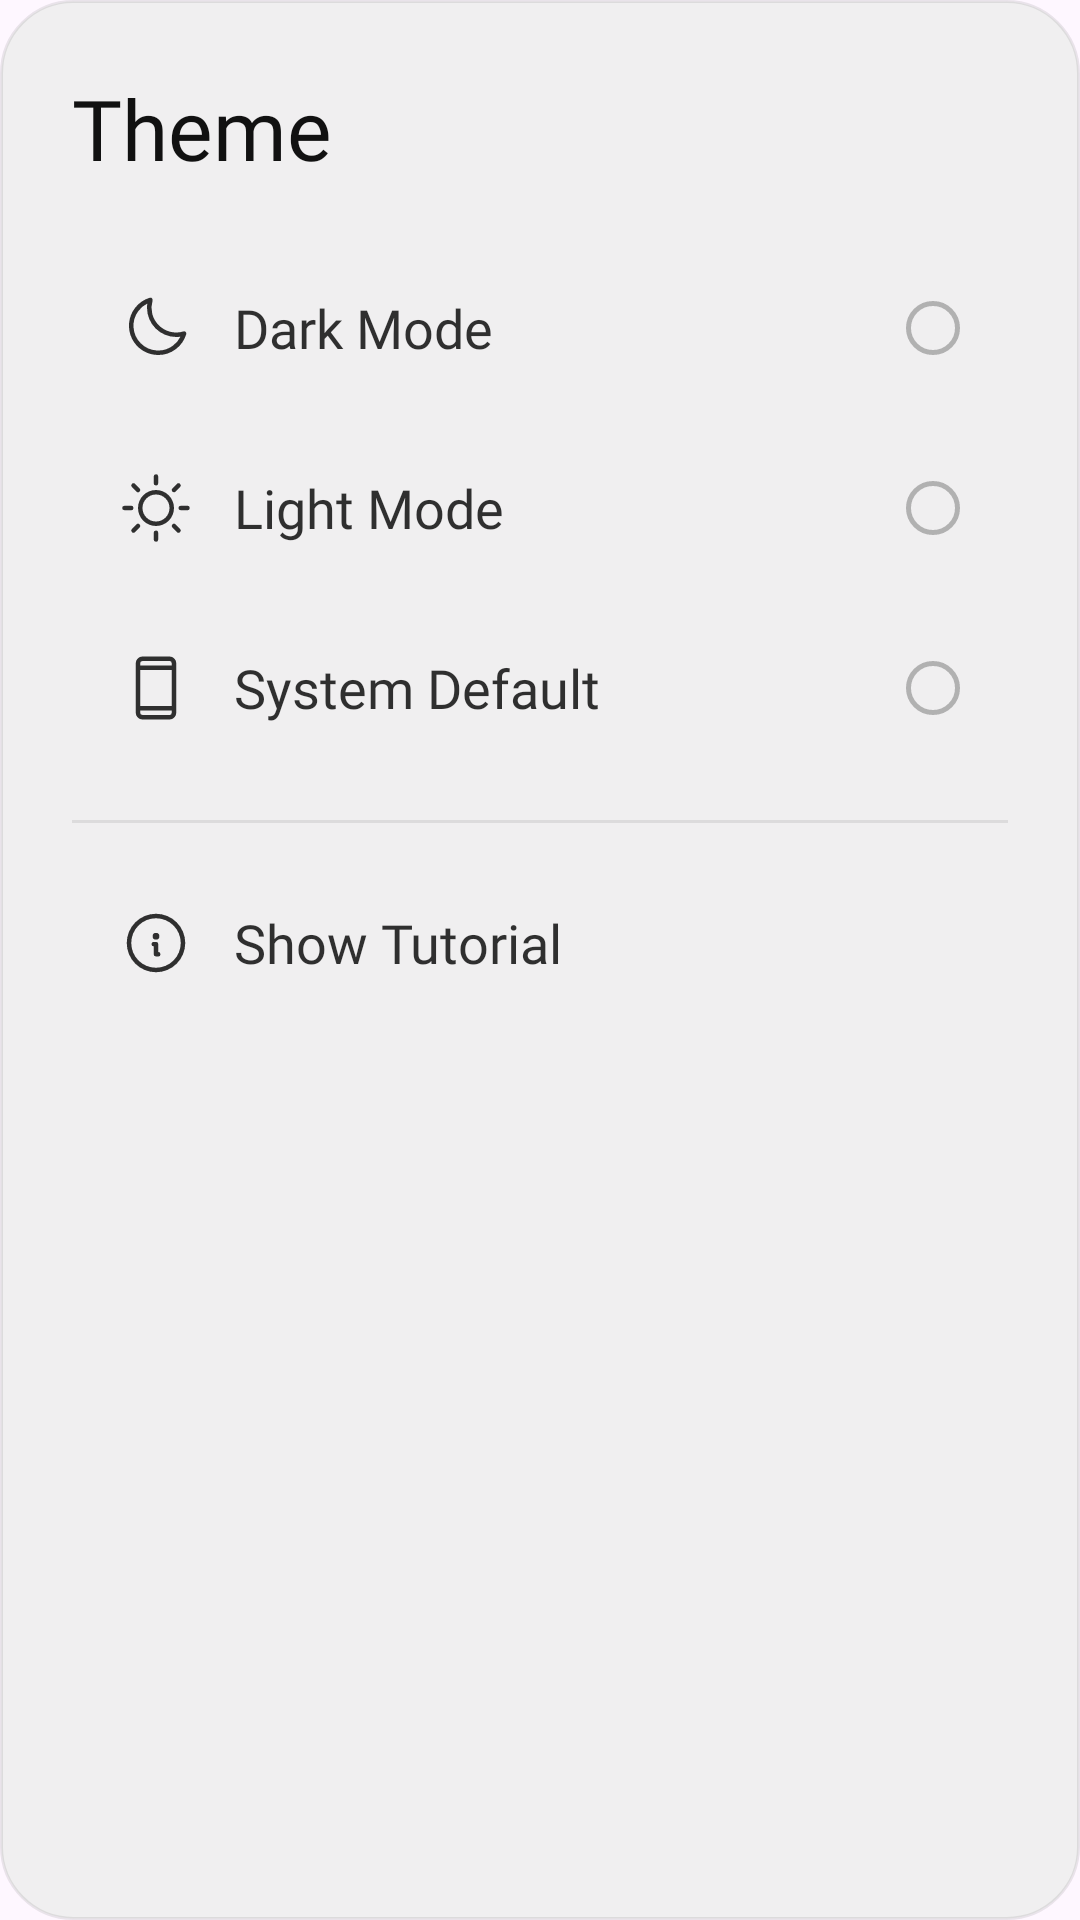

Icons on this 1080w x 1920h Android screen, each with the point to tap as [x,y]:
device: [156,688]
info: [156,943]
moon: [158,326]
radio: [933,328], [933,508], [933,688]
sun: [156,508]
